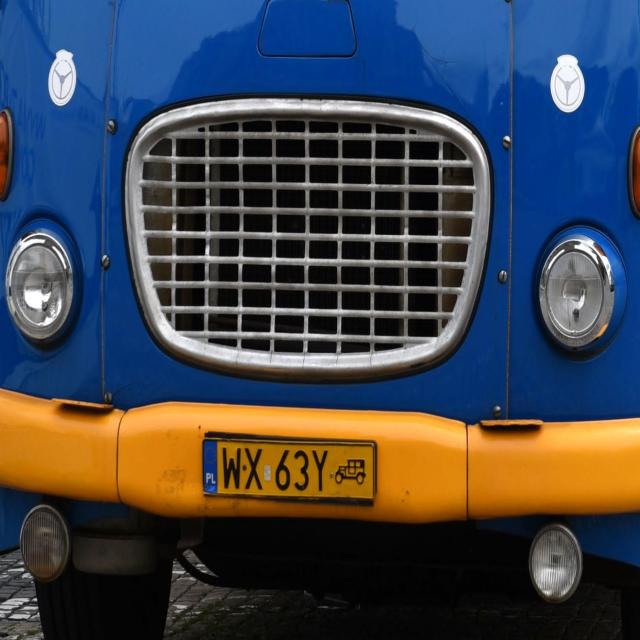pl_license_plate: (204, 438, 376, 501)
